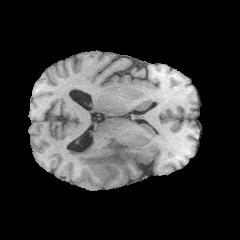glioma: (67, 137, 129, 177)
